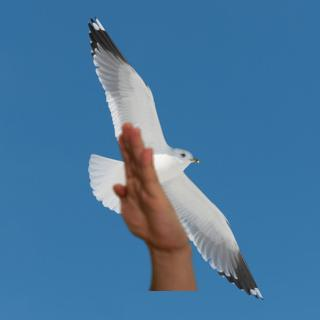RIGHT: (108, 120, 188, 255)
